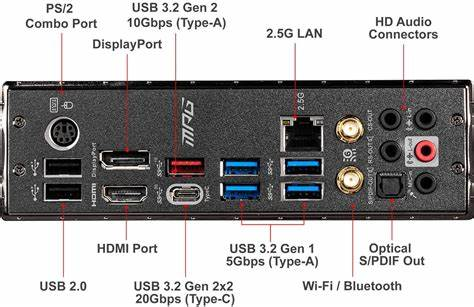Audio: (378, 107, 406, 134), (414, 169, 440, 196), (412, 106, 440, 130), (411, 139, 439, 163)
Ethernet: (277, 116, 327, 153)
HDMI: (98, 183, 152, 203)
USB: (219, 178, 262, 202), (219, 155, 262, 178), (279, 156, 326, 177), (279, 181, 327, 201), (165, 155, 208, 176), (42, 181, 84, 202), (44, 156, 83, 178)
